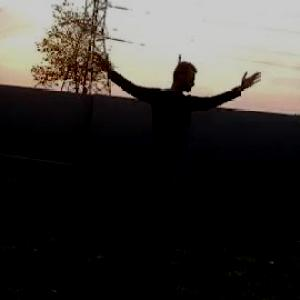takeoff: (96, 41, 274, 243)
